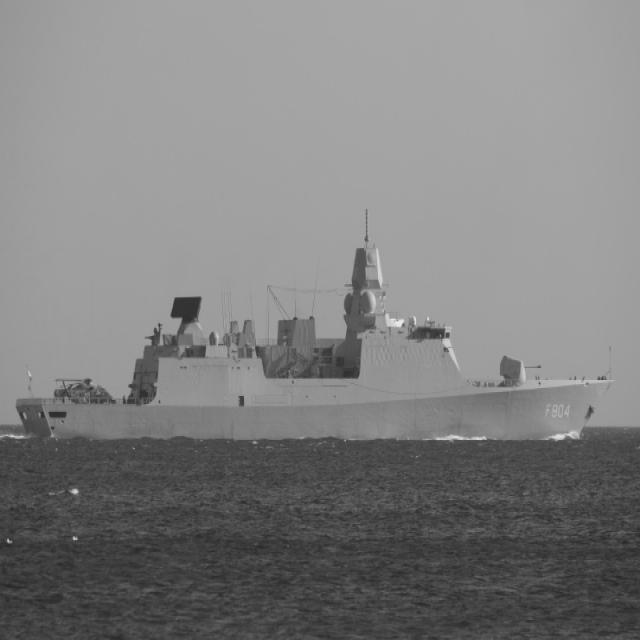Fragata: (15, 203, 619, 447)
